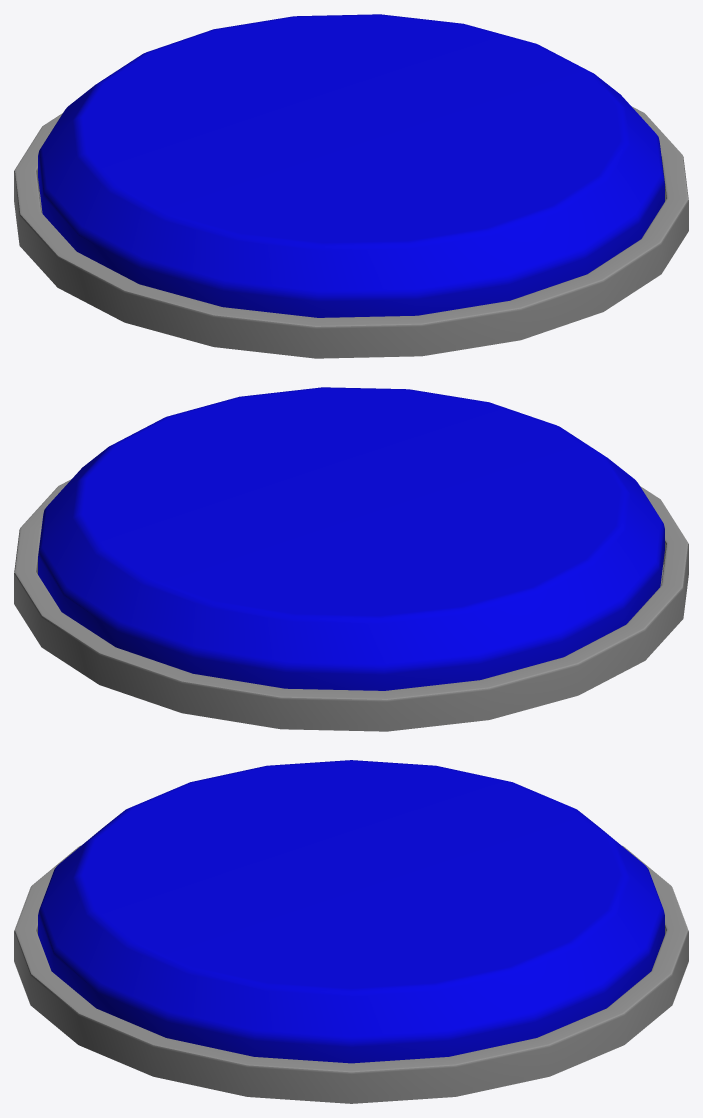
The model's file is BigButtonBlue.fbx.
3 renders of one model, top to bottom at view 1: azimuth 30°, elevation 25°; view 2: azimuth 150°, elevation 25°; view 3: azimuth 270°, elevation 25°, orthographic.
Parts seen in each view (by area): view 1: ButtonTopBlue, ButtonBottomBlue; view 2: ButtonTopBlue, ButtonBottomBlue; view 3: ButtonTopBlue, ButtonBottomBlue.
Boxes of the visible parts, x1,y1,x2,y2 form: ButtonTopBlue: [38, 14, 664, 317]; ButtonBottomBlue: [14, 106, 688, 358]; ButtonTopBlue: [38, 387, 664, 690]; ButtonBottomBlue: [14, 479, 688, 731]; ButtonTopBlue: [38, 760, 664, 1063]; ButtonBottomBlue: [14, 845, 688, 1103].
Bounding box in the file's own units: 11.11 × 1.57 × 11.11.
